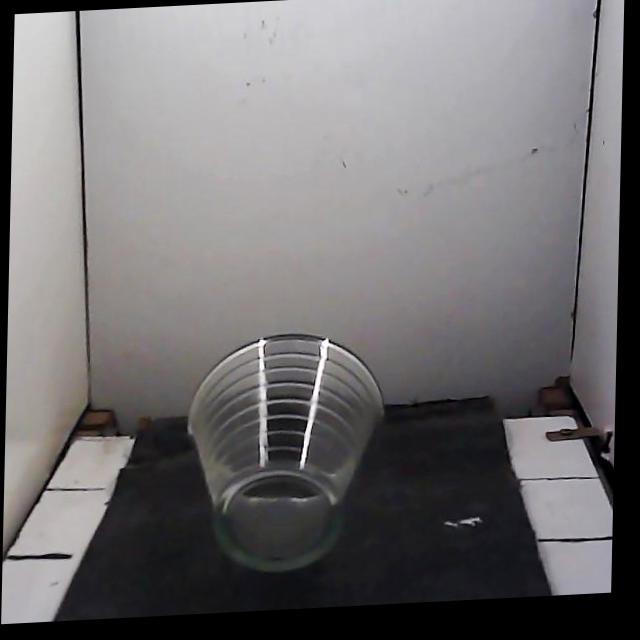vidro: (188, 334, 383, 571)
